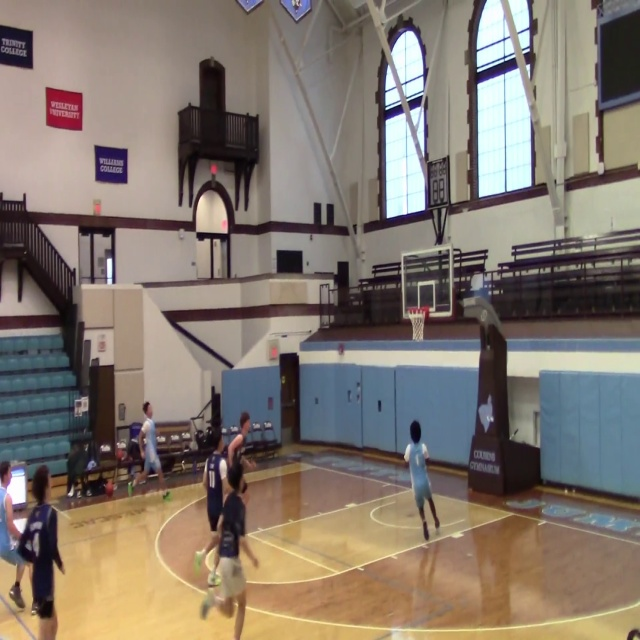Basketball: (162, 490, 170, 499)
